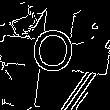O_S: (30, 27, 80, 83)
